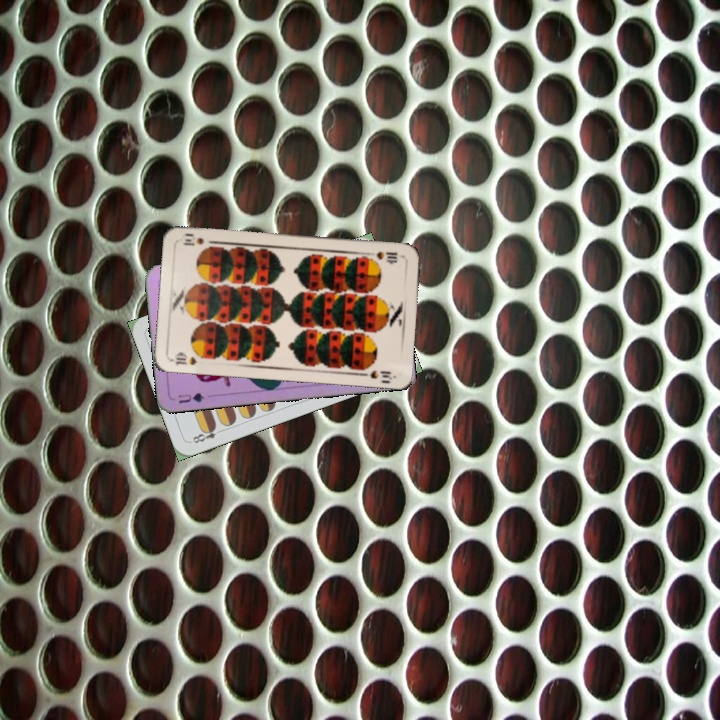E8: (187, 422, 226, 446)
GU: (174, 388, 207, 406)
S10: (364, 247, 400, 264), (172, 349, 199, 368)
